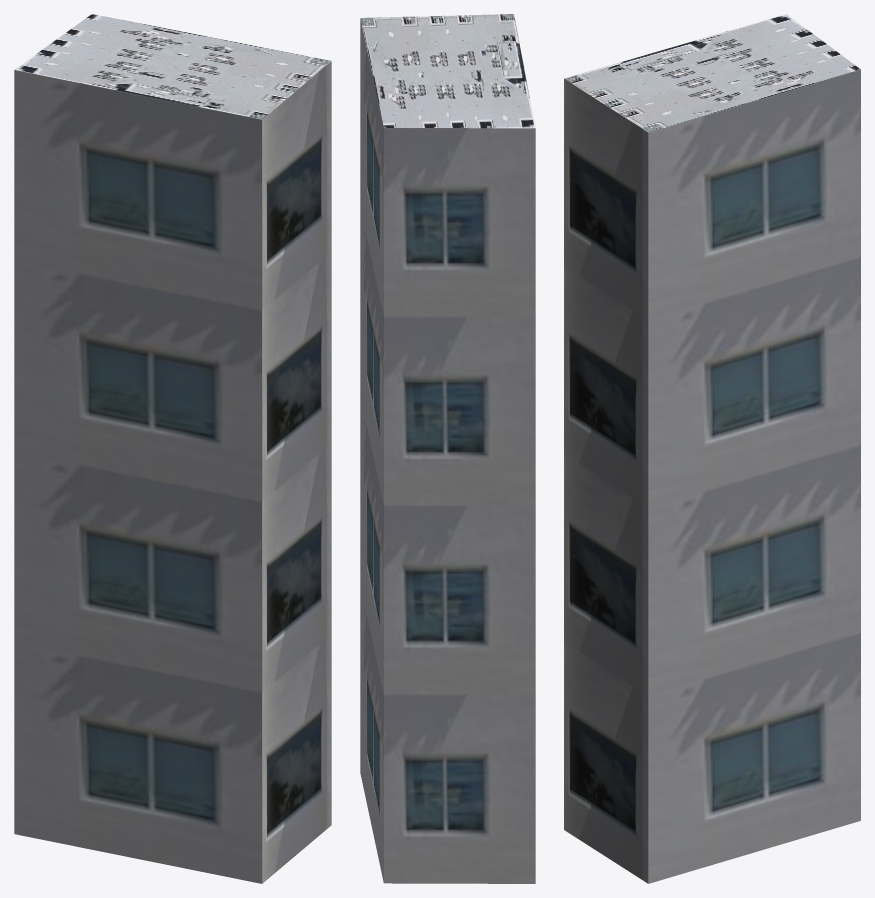
File: ResTex__2482.fbx
3 renders of one model, left to right at view 1: azimuth 30°, elevation 25°; view 2: azimuth 150°, elevation 25°; view 3: azimuth 270°, elevation 25°, orthographic.
Visible parts, largest first — view 1: CityEngineMaterial_10_m, CityEngineMaterial_2_m; view 2: CityEngineMaterial_10_m, CityEngineMaterial_2_m; view 3: CityEngineMaterial_10_m, CityEngineMaterial_2_m.
Part boxes in pixels (box(x1,y1,x2,y2)): CityEngineMaterial_10_m: box(14, 61, 331, 883); CityEngineMaterial_2_m: box(14, 14, 331, 119); CityEngineMaterial_10_m: box(360, 18, 535, 883); CityEngineMaterial_2_m: box(360, 14, 535, 128); CityEngineMaterial_10_m: box(564, 69, 860, 883); CityEngineMaterial_2_m: box(564, 14, 860, 132).
Size of the model in its own units: 4.06 by 12 by 4.3.
Materials: 2 (2 with a texture image).
